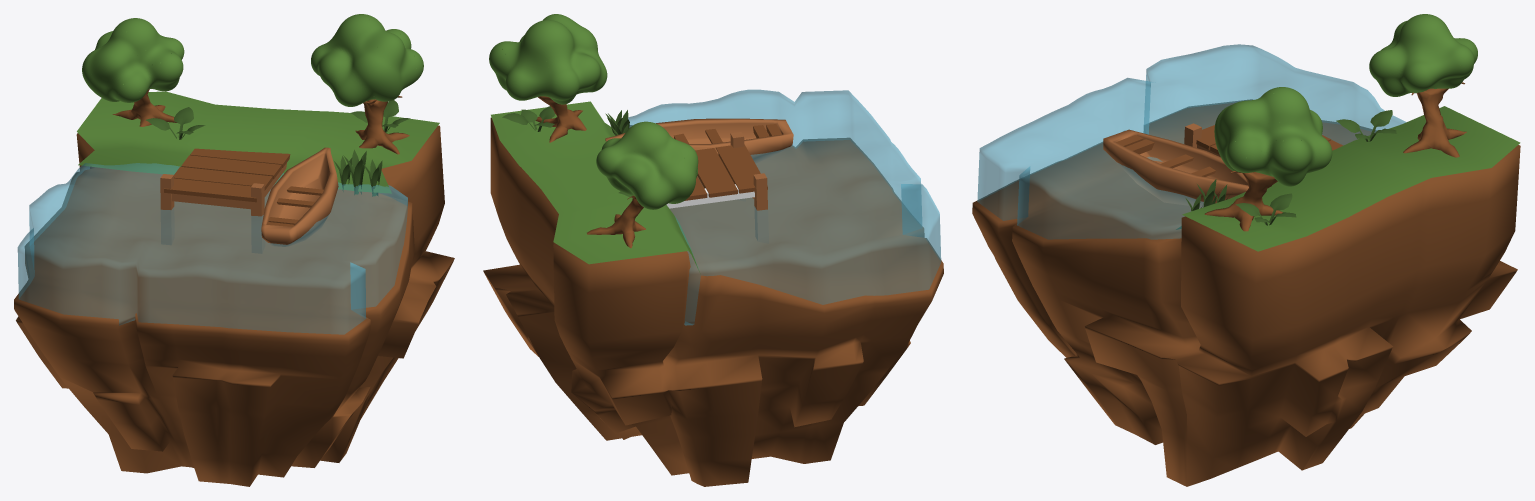
The model's file is Lake.glb.
3 views of the same model, side by side, from view 1: azimuth 30°, elevation 25°; view 2: azimuth 150°, elevation 25°; view 3: azimuth 270°, elevation 25° (orthographic). The views are drawn at different scales.
Parts seen in each view (by area): view 1: Cube.060, Cube.070, Cube.071, Mball.002, Mball.001, Cube.067, Cube.074, Cube.062, Cube.073, Plane.285, Cube.072, Cube.075 (+3 smaller); view 2: Cube.060, Cube.070, Cube.071, Mball.002, Mball.001, Cube.074, Cube.067, Cube.062, Cube.072, Cube.073, Plane.288, Cube.075 (+1 smaller); view 3: Cube.060, Cube.070, Cube.071, Mball.002, Mball.001, Cube.074, Cube.072, Cube.073, Cube.075, Plane.294, Plane.288.
Boxes of the visible parts, bbox=[...] form: Cube.060: bbox=[14, 125, 454, 486]; Cube.070: bbox=[17, 163, 407, 334]; Cube.071: bbox=[77, 91, 439, 193]; Mball.002: bbox=[311, 14, 423, 106]; Mball.001: bbox=[82, 18, 184, 102]; Cube.067: bbox=[164, 148, 290, 202]; Cube.074: bbox=[261, 147, 338, 246]; Cube.062: bbox=[160, 174, 265, 253]; Cube.073: bbox=[355, 96, 409, 154]; Plane.285: bbox=[334, 149, 382, 196]; Cube.072: bbox=[112, 89, 176, 126]; Cube.075: bbox=[266, 186, 323, 226]; Cube.060: bbox=[483, 117, 943, 486]; Cube.070: bbox=[628, 89, 941, 325]; Cube.071: bbox=[491, 101, 700, 273]; Mball.002: bbox=[489, 14, 607, 104]; Mball.001: bbox=[596, 121, 698, 209]; Cube.074: bbox=[605, 118, 793, 163]; Cube.067: bbox=[684, 144, 767, 200]; Cube.062: bbox=[730, 132, 768, 243]; Cube.072: bbox=[587, 195, 645, 248]; Cube.073: bbox=[535, 96, 586, 142]; Plane.288: bbox=[502, 106, 554, 131]; Cube.075: bbox=[674, 124, 781, 143]; Cube.060: bbox=[972, 99, 1520, 486]; Cube.070: bbox=[977, 44, 1406, 239]; Cube.071: bbox=[1176, 106, 1520, 251]; Mball.002: bbox=[1214, 87, 1332, 186]; Mball.001: bbox=[1369, 14, 1477, 96]; Cube.074: bbox=[1103, 129, 1248, 207]; Cube.072: bbox=[1403, 82, 1466, 157]; Cube.073: bbox=[1204, 171, 1282, 231]; Cube.075: bbox=[1116, 135, 1215, 176]; Plane.294: bbox=[1336, 110, 1396, 141]; Plane.288: bbox=[1235, 193, 1296, 225].
Size of the model in its own units: 6.3 by 5.54 by 6.33.
